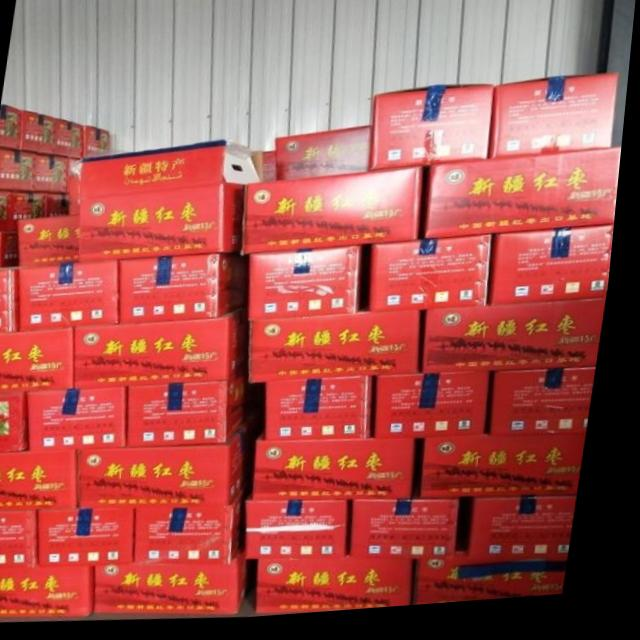box: (73, 142, 267, 263), (424, 157, 625, 246), (242, 172, 427, 257), (86, 423, 257, 511), (82, 310, 253, 391), (424, 307, 612, 380), (255, 315, 426, 389), (262, 436, 425, 506), (493, 82, 621, 166), (429, 443, 594, 506), (376, 91, 497, 176), (368, 242, 500, 318), (495, 234, 619, 313), (423, 551, 579, 613), (106, 555, 259, 618), (122, 256, 253, 327), (252, 250, 375, 325), (267, 563, 425, 619), (136, 379, 255, 450), (145, 493, 256, 568), (381, 379, 500, 446), (23, 261, 124, 333), (495, 376, 603, 443), (361, 500, 472, 564), (477, 505, 588, 566), (273, 383, 381, 445), (256, 498, 357, 564), (36, 389, 136, 453), (49, 510, 148, 569), (0, 450, 90, 511), (0, 329, 82, 395), (0, 569, 106, 619), (279, 131, 375, 184), (23, 216, 85, 266), (0, 511, 50, 570), (0, 394, 38, 453), (0, 148, 41, 193), (0, 266, 26, 334), (24, 110, 62, 155), (39, 152, 74, 193), (15, 193, 51, 232), (0, 104, 24, 150), (61, 120, 86, 161), (0, 231, 23, 269), (86, 127, 113, 159), (0, 191, 18, 232), (50, 193, 72, 218), (266, 156, 281, 186)
